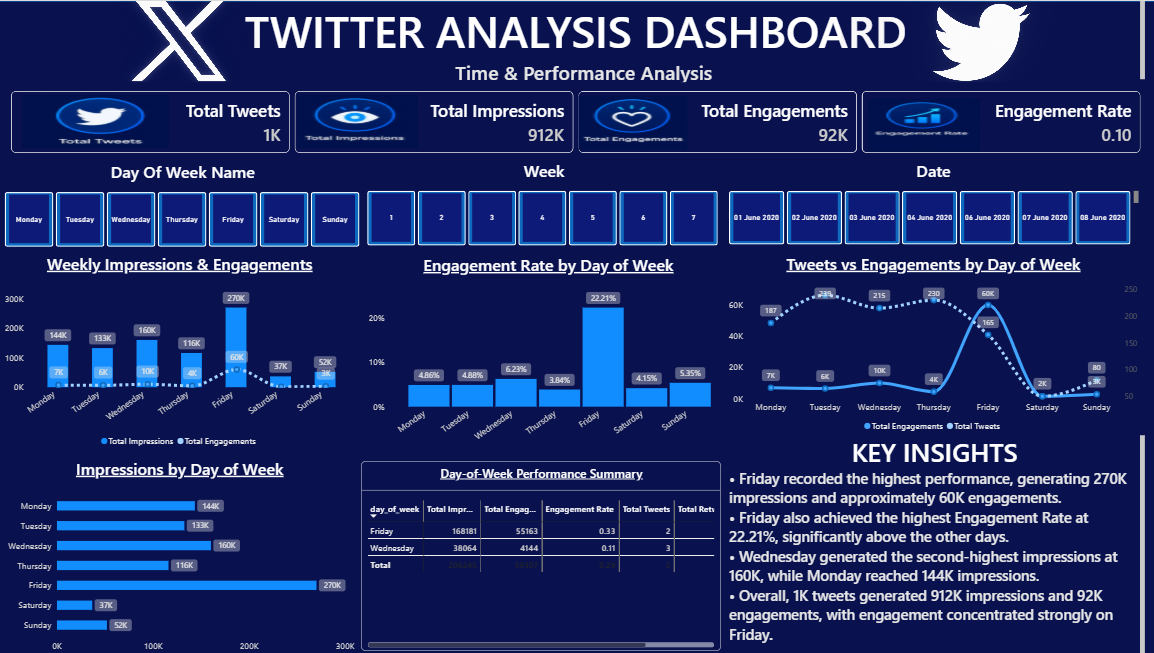

This screenshot's page, from the dashboard's own definition file:
{"tool":"powerbi","page":{"name":"Dashboard 4","canvas":[1920,1080],"ordinal":3},"visuals":[{"type":"shape","box":[10.9,0,1909.2,1080.4],"z":0},{"type":"textbox","box":[32.6,0,1867.6,133.9],"z":1000},{"type":"cardVisual","fields":{"Data":["Twitter Measure Table.Total Tweets","Twitter Measure Table.Total Impressions","Twitter Measure Table.Total Engagements","Twitter Measure Table.Engagement Rate"]},"box":[32.1,147.5,1860.1,102.6],"z":2000},{"type":"image","box":[166.5,0,298.6,133.9],"z":3000},{"type":"image","box":[1398.9,0,461.5,133.9],"z":4000},{"type":"advancedSlicerVisual","title":"Day Of Week Name","fields":{"Values":["twitter_analysis_cleaned.day_of_week"]},"box":[22.6,263.5,586.6,142],"z":5000},{"type":"image","box":[51.3,153.9,241.6,87.7],"z":6000},{"type":"image","box":[504.6,153.9,198.8,87.7],"z":7000},{"type":"image","box":[966.4,156.1,179.6,87.7],"z":8000},{"type":"image","box":[1445.3,160.4,183.9,87.7],"z":10000},{"type":"lineClusteredColumnComboChart","title":"Weekly Impressions & Engagements","fields":{"Category":["twitter_analysis_cleaned.day_of_week"],"Y":["Twitter Measure Table.Total Impressions"],"Y2":["Twitter Measure Table.Total Engagements"]},"box":[22.6,413.7,576.3,325.2],"z":11000},{"type":"advancedSlicerVisual","title":"Week","fields":{"Values":["twitter_analysis_cleaned.DayOfWeekNumber"]},"box":[619.6,261.4,582.5,142],"z":12000},{"type":"advancedSlicerVisual","title":"Date","fields":{"Values":["twitter_analysis_cleaned.date"]},"box":[1214.4,261.4,675.1,140],"z":13000},{"type":"pivotTable","title":"Day-of-Week Performance Summary","fields":{"Values":["Twitter Measure Table.Total Impressions","Twitter Measure Table.Total Engagements","Twitter Measure Table.Engagement Rate","Twitter Measure Table.Total Tweets","Twitter Measure Table.Total Retweets","Twitter Measure Table.Total Likes"],"Rows":["twitter_analysis_cleaned.day_of_week"]},"box":[609.3,757.5,592.8,312.9],"z":14000},{"type":"clusteredBarChart","title":"Impressions by Day of Week","fields":{"Category":["twitter_analysis_cleaned.day_of_week"],"Y":["Twitter Measure Table.Total Impressions"]},"box":[22.6,751.3,576.3,325.2],"z":15000},{"type":"lineChart","title":"Tweets vs Engagements by Day of Week","fields":{"Y":["Twitter Measure Table.Total Engagements"],"Category":["twitter_analysis_cleaned.day_of_week"],"Y2":["Twitter Measure Table.Total Tweets"]},"box":[1214.4,413.7,675.1,300.5],"z":16000},{"type":"clusteredColumnChart","title":"Engagement Rate by Day of Week","fields":{"Category":["twitter_analysis_cleaned.day_of_week"],"Y":["Twitter Measure Table.Engagement Rate"]},"box":[622.2,414.8,592.8,325.2],"z":17000},{"type":"textbox","box":[1214.4,714.2,685.4,362.3],"z":18000}]}

Visuals, with their boxes in screenshot pixels (x1, y1, x2, y2), scaled from the page's 1920x1080 canvas onto the 1154x653 screenshot:
shape: locate(7, 0, 1153, 652)
textbox: locate(20, 0, 1142, 81)
cardVisual - Twitter Measure Table.Total Tweets x Twitter Measure Table.Total Impressions: locate(19, 89, 1137, 151)
image: locate(100, 0, 280, 81)
image: locate(841, 0, 1118, 81)
"Day Of Week Name" advancedSlicerVisual: locate(14, 159, 366, 245)
image: locate(31, 93, 176, 146)
image: locate(303, 93, 423, 146)
image: locate(581, 94, 689, 147)
image: locate(869, 97, 979, 150)
"Weekly Impressions & Engagements" lineClusteredColumnComboChart: locate(14, 250, 360, 447)
"Week" advancedSlicerVisual: locate(372, 158, 723, 244)
"Date" advancedSlicerVisual: locate(730, 158, 1136, 243)
"Day-of-Week Performance Summary" pivotTable: locate(366, 458, 723, 647)
"Impressions by Day of Week" clusteredBarChart: locate(14, 454, 360, 651)
"Tweets vs Engagements by Day of Week" lineChart: locate(730, 250, 1136, 432)
"Engagement Rate by Day of Week" clusteredColumnChart: locate(374, 251, 730, 447)
textbox: locate(730, 432, 1142, 651)
